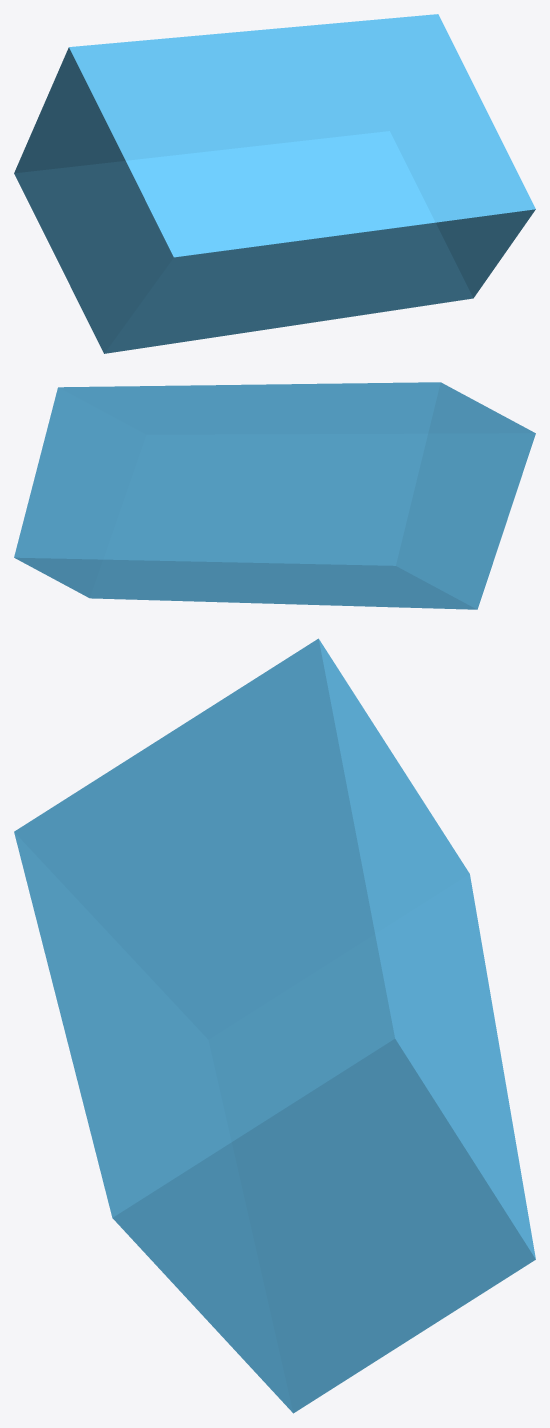
File: Event_420107950_HErechit_10.fbx
The picture shows the model from 3 angles, top to bottom: view 1: azimuth 30°, elevation 25°; view 2: azimuth 150°, elevation 25°; view 3: azimuth 270°, elevation 25°; orthographic projection. The views are drawn at different scales.
Visible parts, largest first — view 1: Model; view 2: Model; view 3: Model.
Boxes of the visible parts, left/top/right/bottom form: Model: left=14, top=14, right=535, bottom=353; Model: left=14, top=382, right=535, bottom=609; Model: left=14, top=638, right=535, bottom=1413.
Bounding box in the file's own units: 0.7911 × 0.6478 × 0.619.
